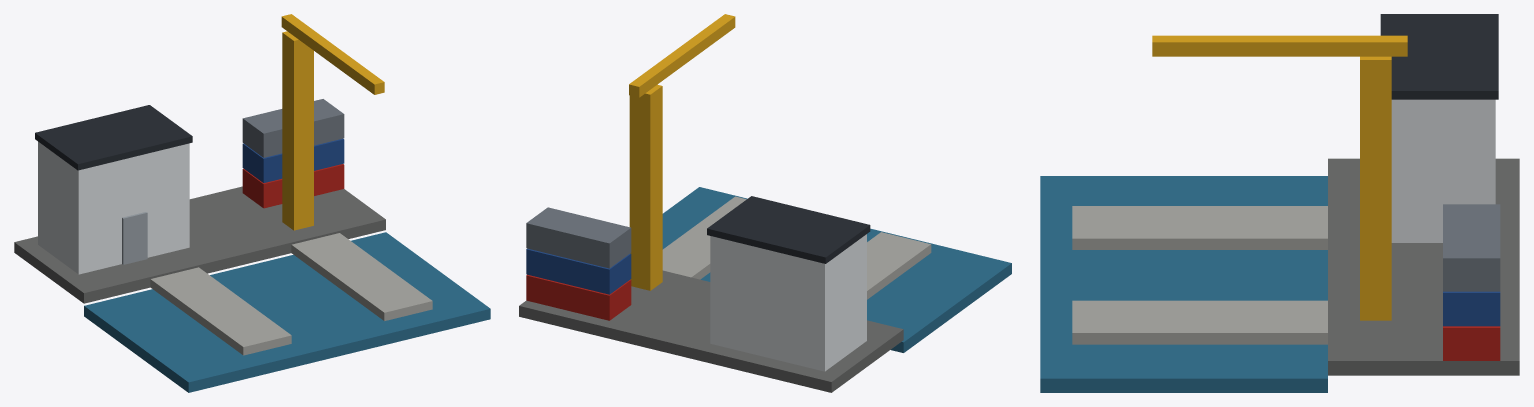
The model's file is bld_special_port_a08_lod2.glb.
The picture shows the model from 3 angles, left to right: view 1: azimuth 30°, elevation 25°; view 2: azimuth 150°, elevation 25°; view 3: azimuth 270°, elevation 25°; orthographic projection. The views are drawn at different scales.
Parts seen in each view (by area): view 1: body, crane; view 2: body, crane; view 3: body, crane.
Boxes of the visible parts, x1,y1,x2,y2 form: body: [14, 99, 490, 392]; crane: [281, 14, 384, 230]; body: [519, 187, 1011, 392]; crane: [629, 14, 735, 290]; body: [1040, 14, 1519, 392]; crane: [1152, 35, 1407, 320].
Size of the model in its own units: 15 by 10.6 by 15.
